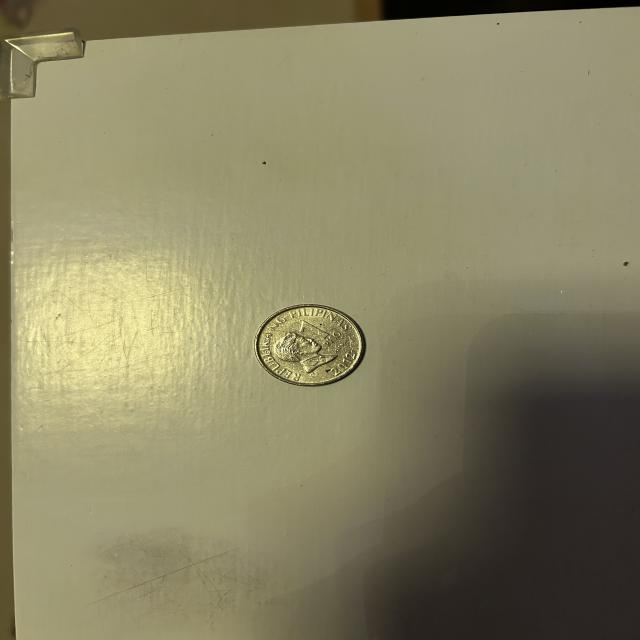1_Old_Front: (297, 318, 350, 353)
